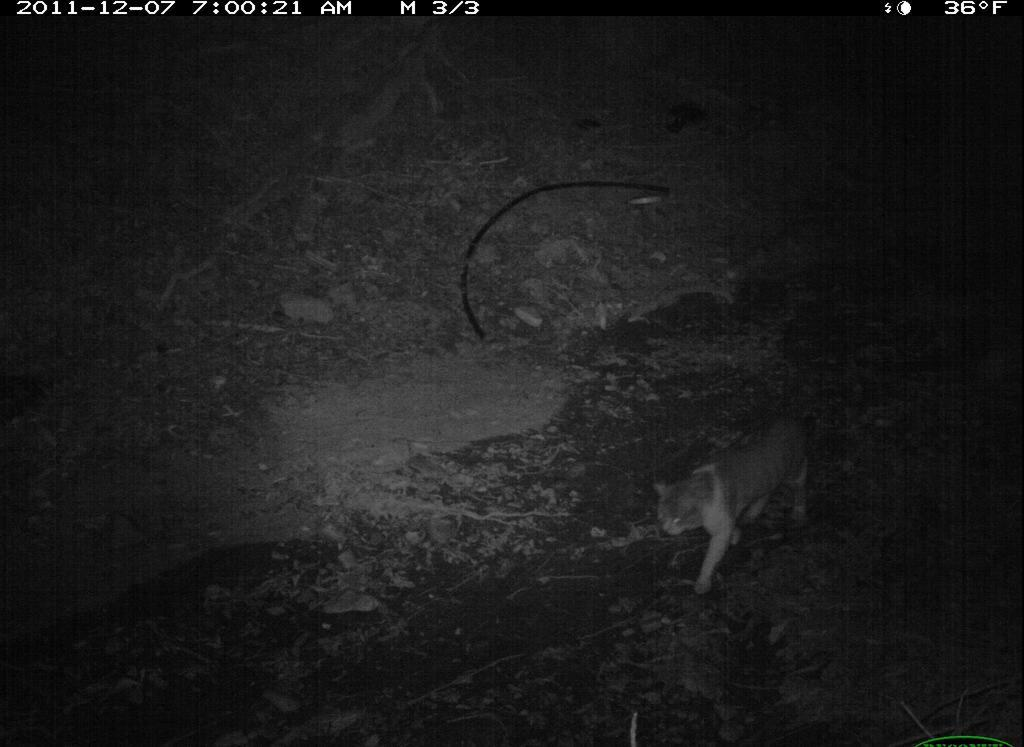cat: (649, 401, 826, 602)
